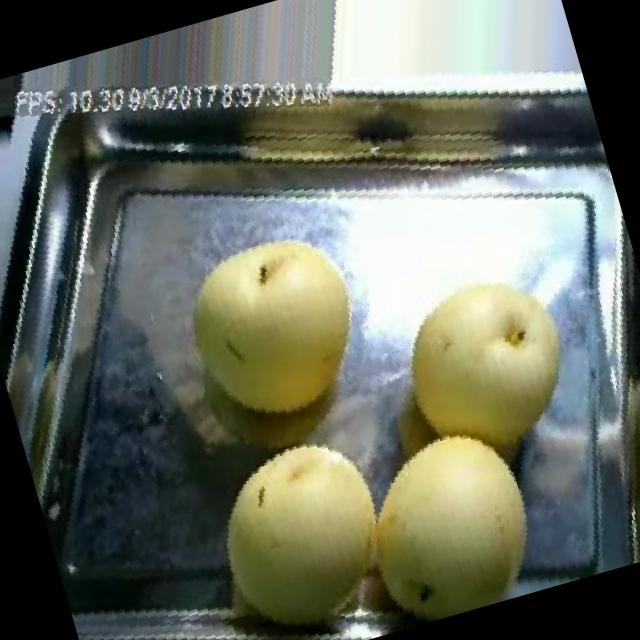Fruit: (132, 182, 416, 472), (347, 224, 622, 513), (303, 385, 579, 640), (164, 397, 441, 640)
